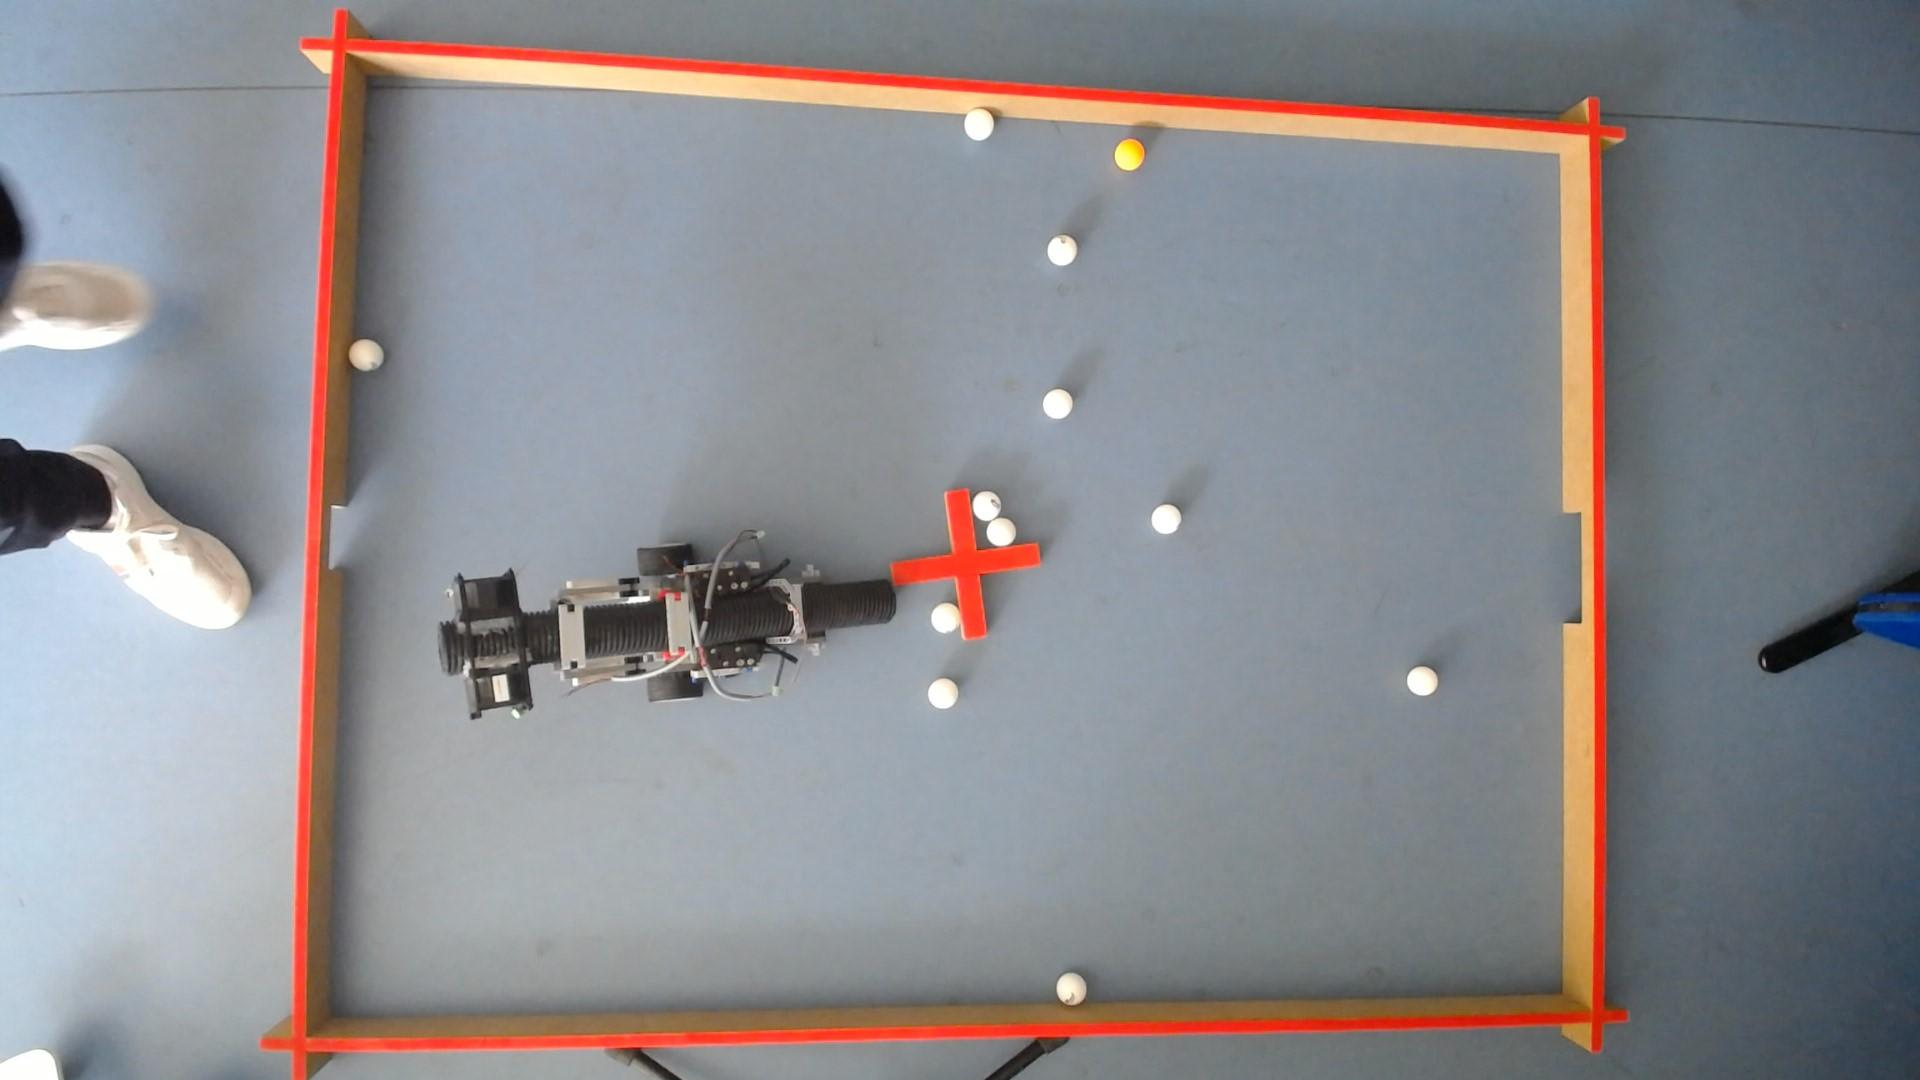orange: (1115, 136, 1146, 168)
robot: (436, 544, 897, 718)
white: (346, 337, 382, 370), (1057, 973, 1088, 1006), (1048, 232, 1079, 264), (1152, 502, 1183, 534), (928, 677, 959, 709), (1409, 665, 1441, 696), (965, 105, 995, 138), (972, 489, 1002, 520), (987, 515, 1017, 545), (931, 602, 961, 632), (1044, 387, 1074, 416)
